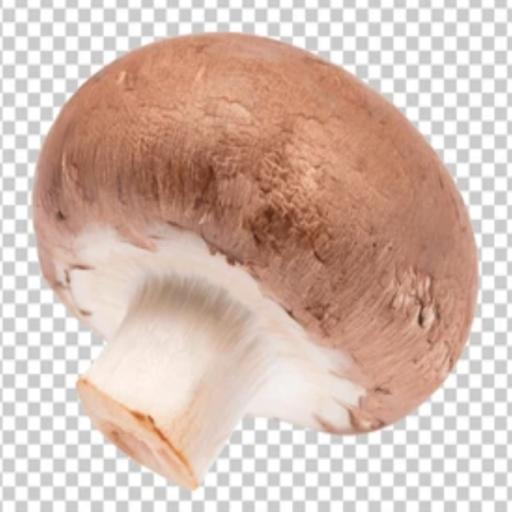mushroom: (29, 29, 489, 492)
